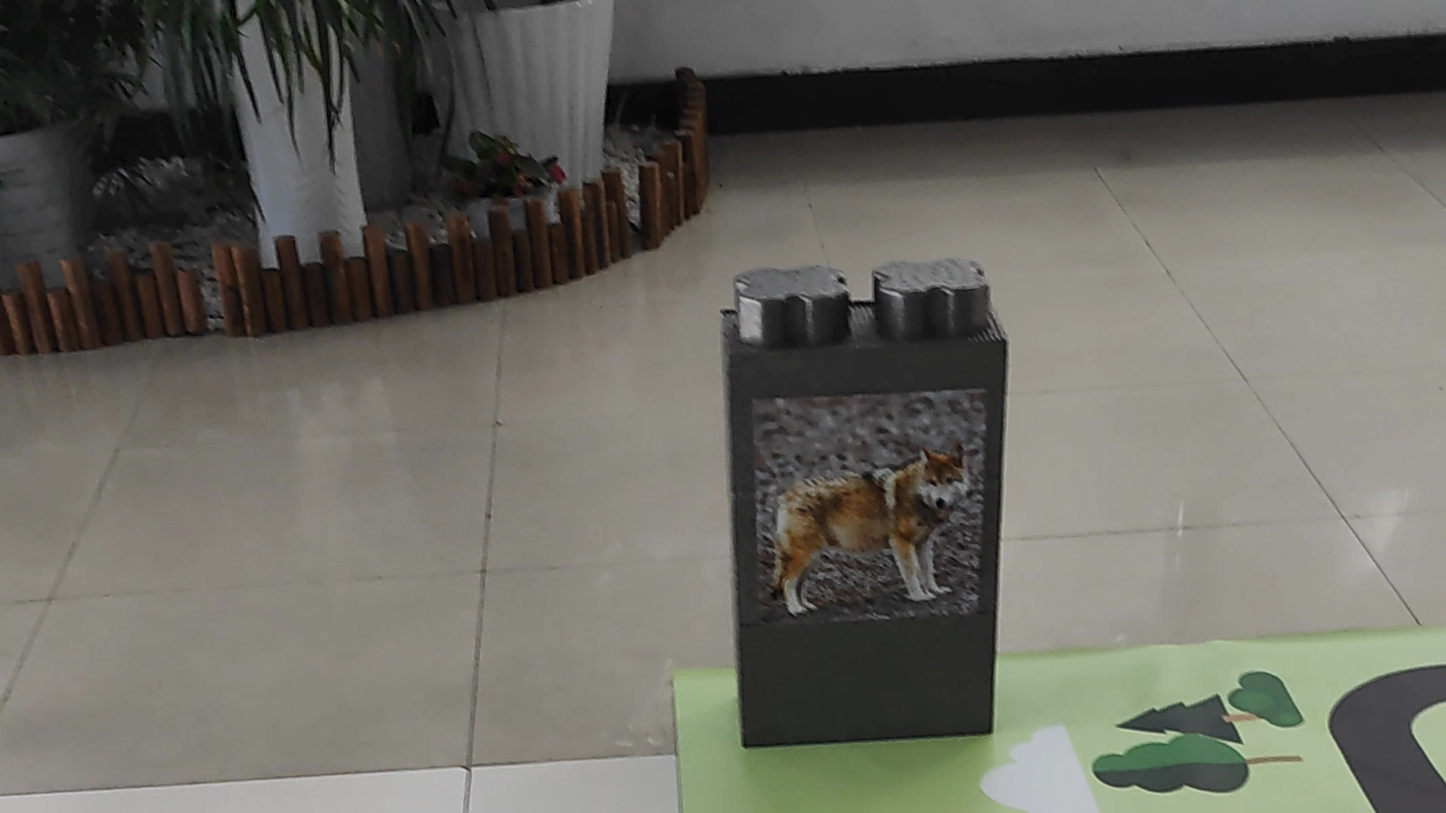wolf: (765, 440, 964, 591)
